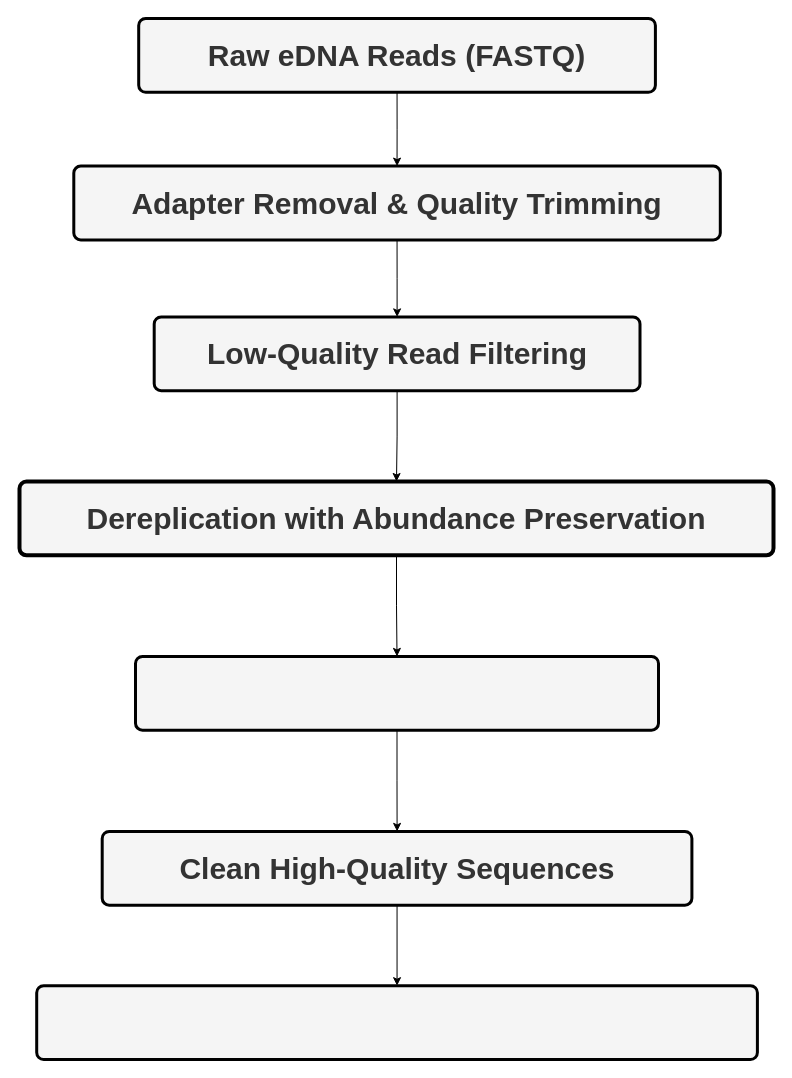
The diagram is 792 pixels wide and 1078 high, and some of its shapes have lost their labels. Each missing label, with the centre of its shape:
Chimera Detection & Removal: the point at 397,692
FCGR Image Generation & ML Modelling: the point at 396,1022
